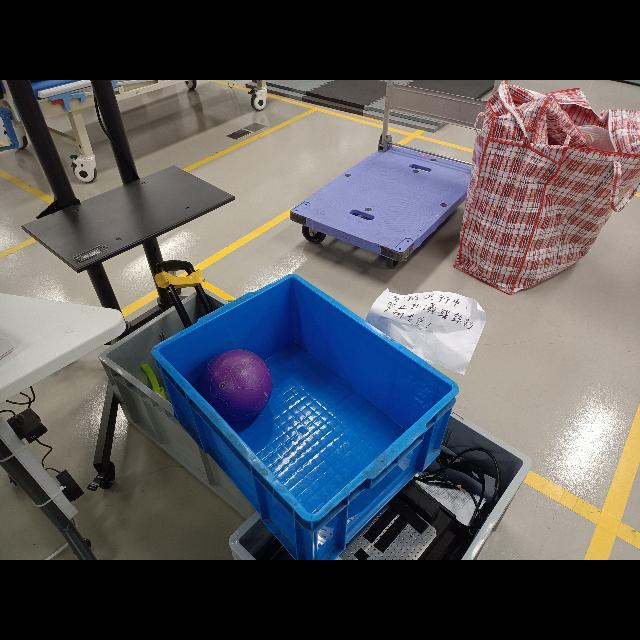P: (200, 349, 272, 421)
